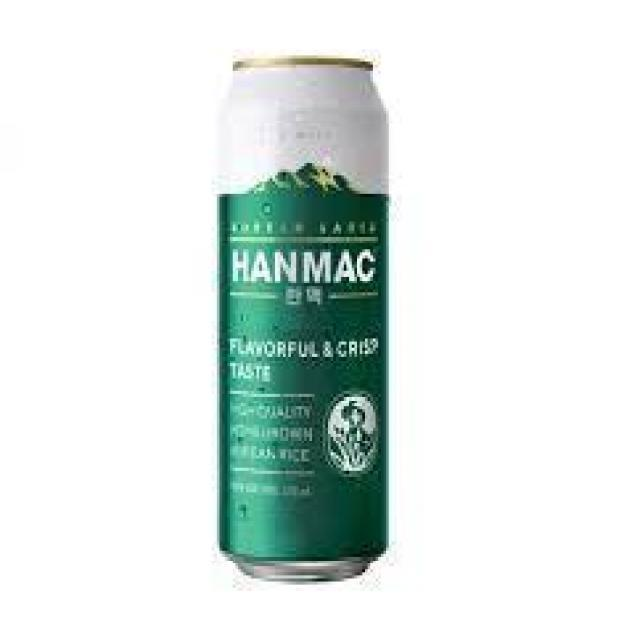beer-can: (214, 52, 394, 591)
